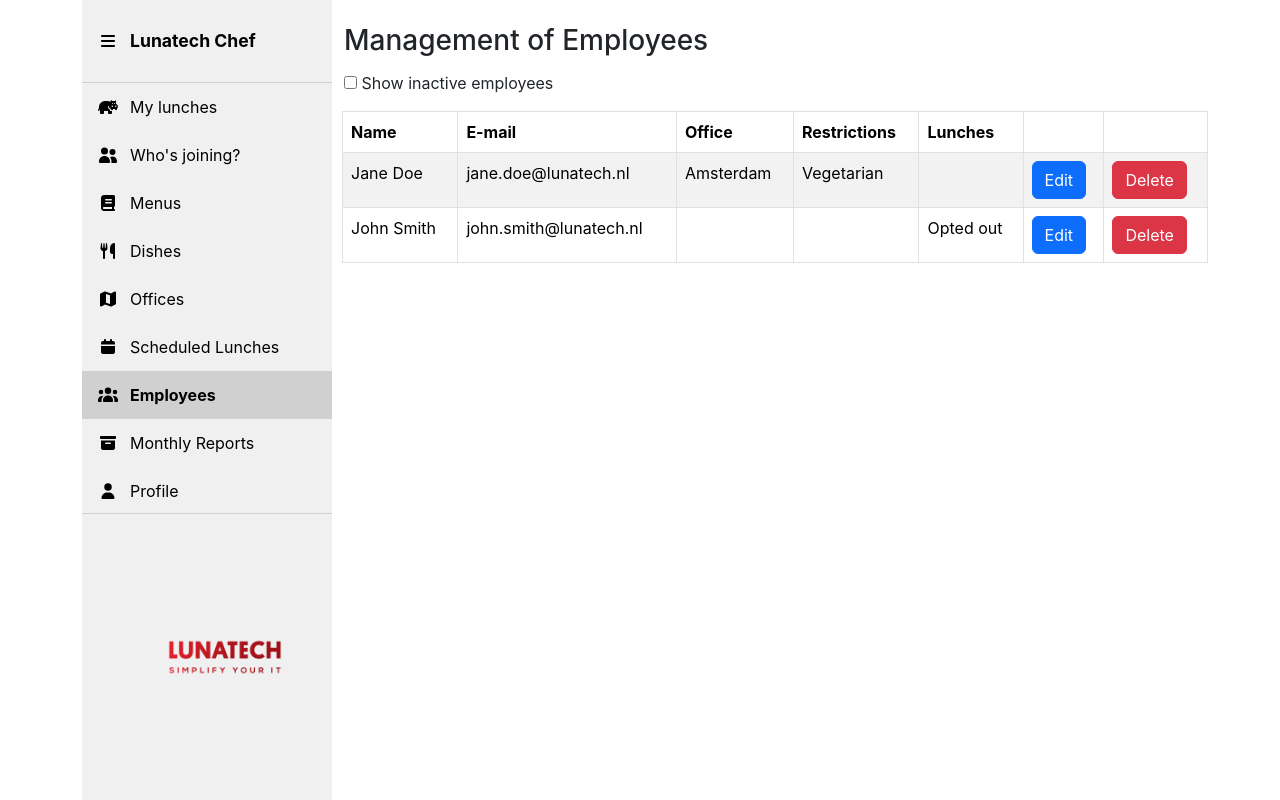
toggling show inactive reveals inactive employees with a badge
This screenshot has width=1280, height=800.
Expected: the text "Jane Doe" is shown, [342, 152, 458, 207]
Step 1. Click the checkbox labelled "Show inactive employees" → (350, 82), box [344, 76, 357, 89]
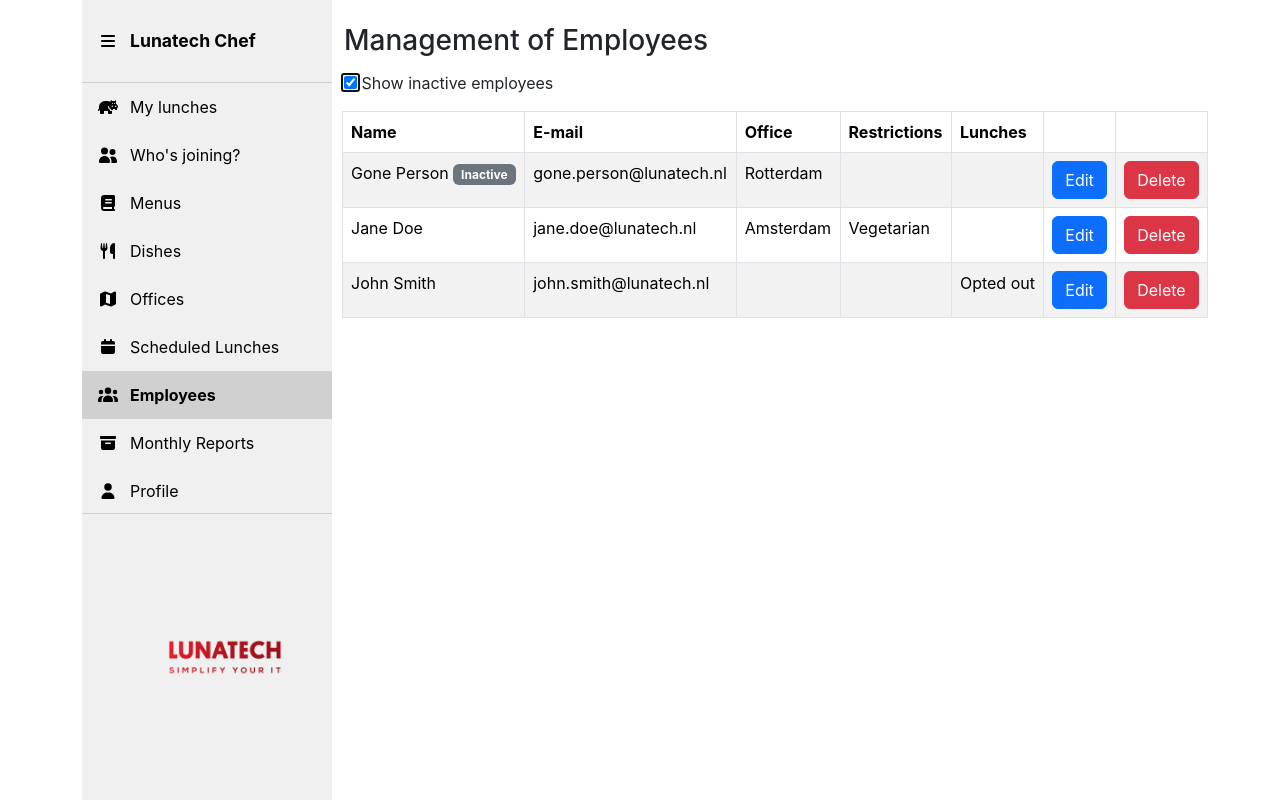
Expected: the text "Inactive" is shown, [453, 164, 516, 185]
